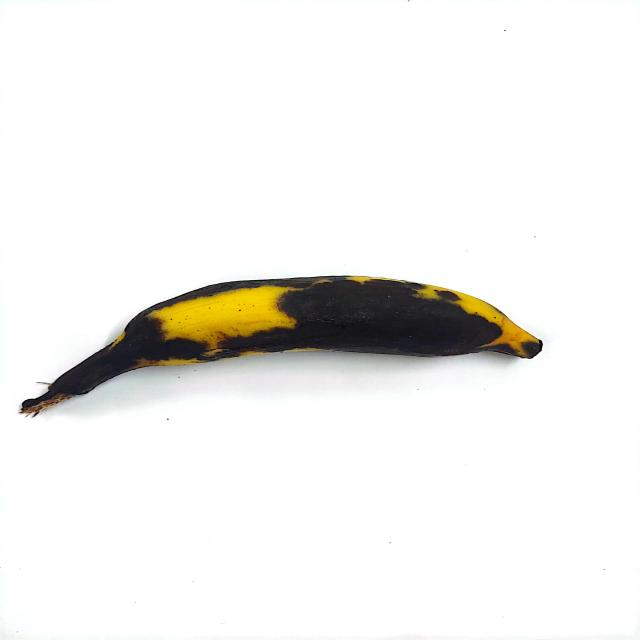rotten_banana: (45, 275, 546, 400)
